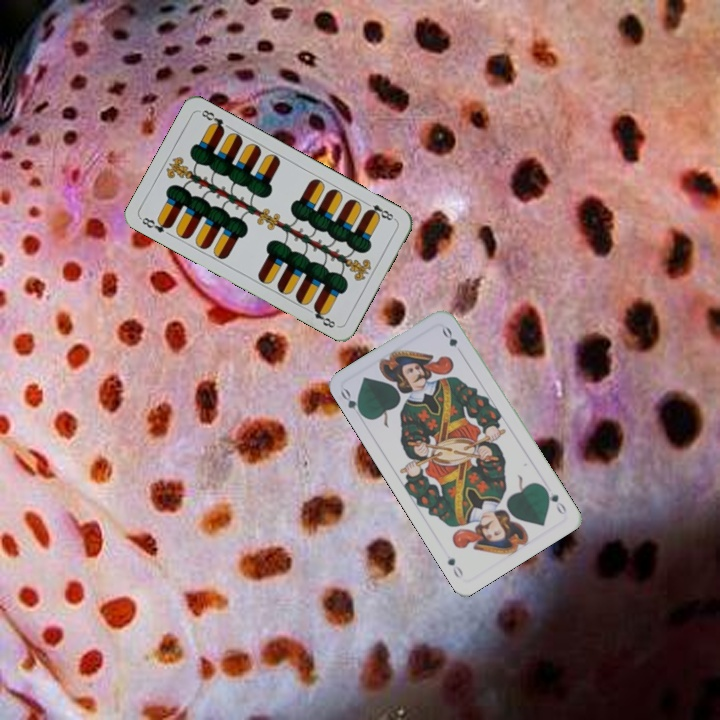E8: (361, 198, 398, 223), (137, 213, 174, 236)
GO: (336, 385, 367, 420), (540, 483, 569, 517)
